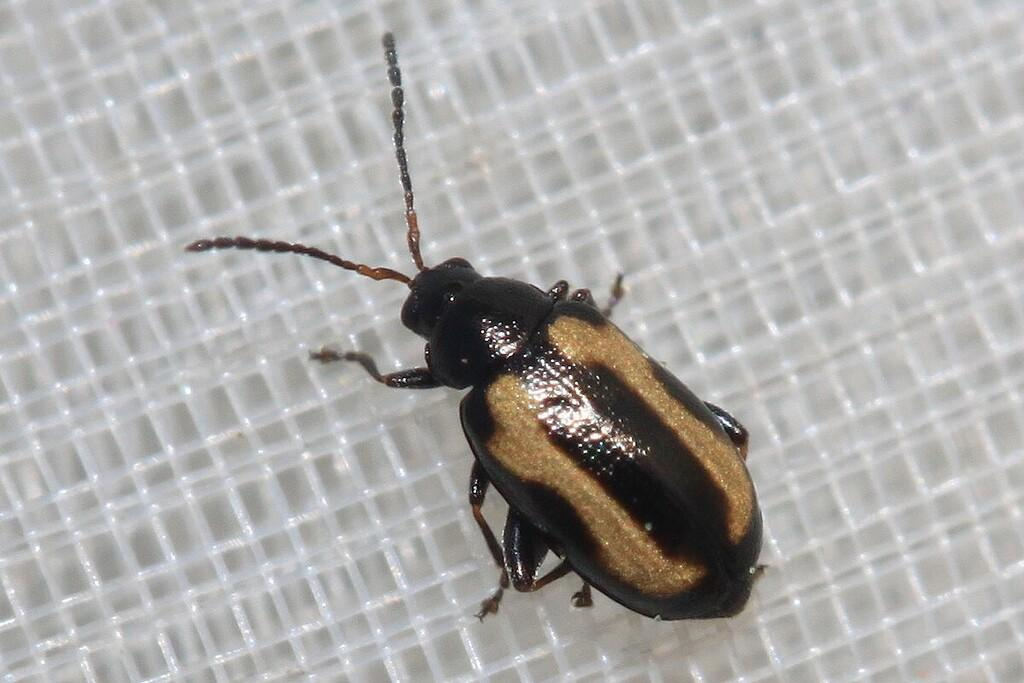flea_beetle: (137, 0, 837, 683)
